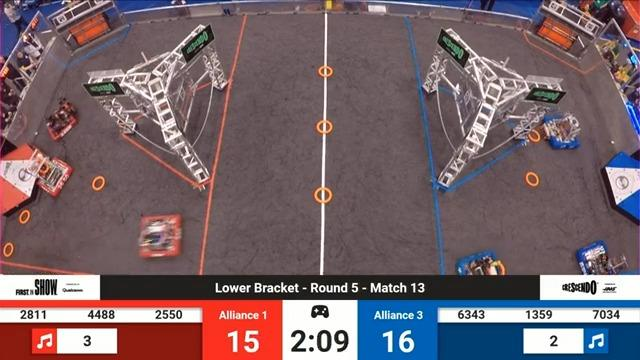robot: (134, 213, 186, 262), (23, 150, 73, 200), (573, 238, 627, 277), (451, 244, 512, 277), (537, 110, 584, 152), (39, 97, 80, 143)
